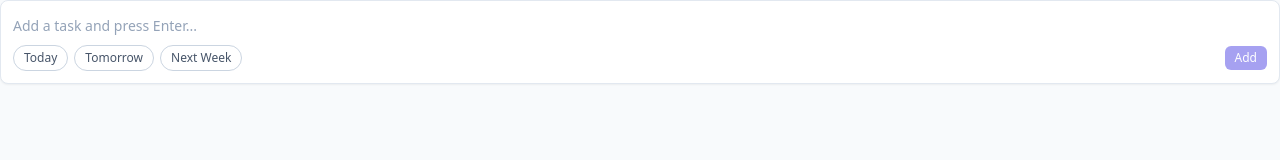
Test case: QuickAddBar › sets a due date badge when a date chip is clicked
The width and height of the screenshot is (1280, 160).
Click the button "Today" at {"x": 41, "y": 58}, box [13,45,68,71]
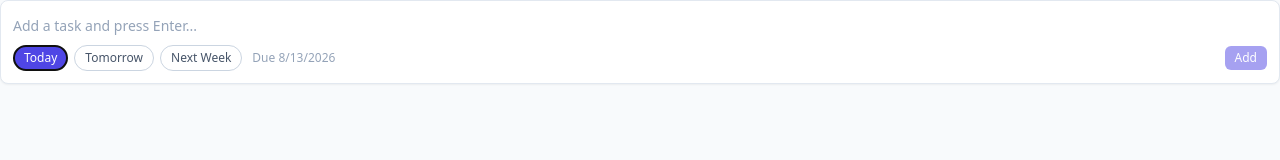
Expected: the text "Due 8/13/2026" is shown, [252,50,335,66]
